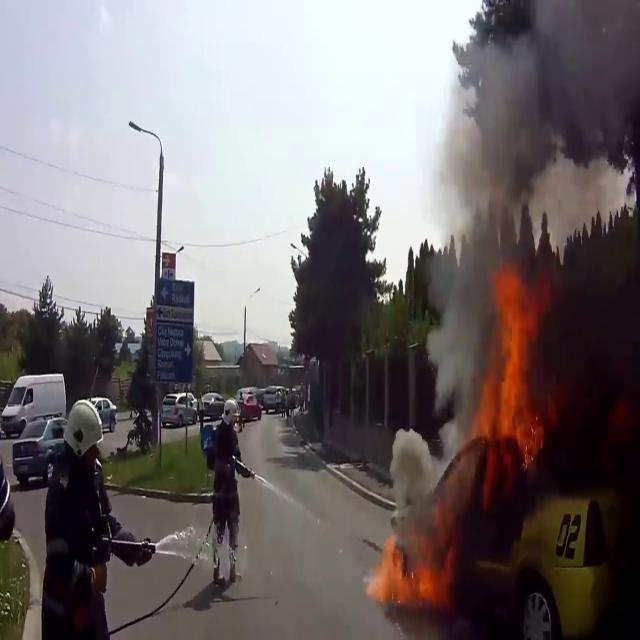Fire: (473, 263, 548, 488), (364, 534, 456, 614)
Smoke: (429, 1, 632, 416), (428, 1, 640, 272), (384, 414, 450, 534)
